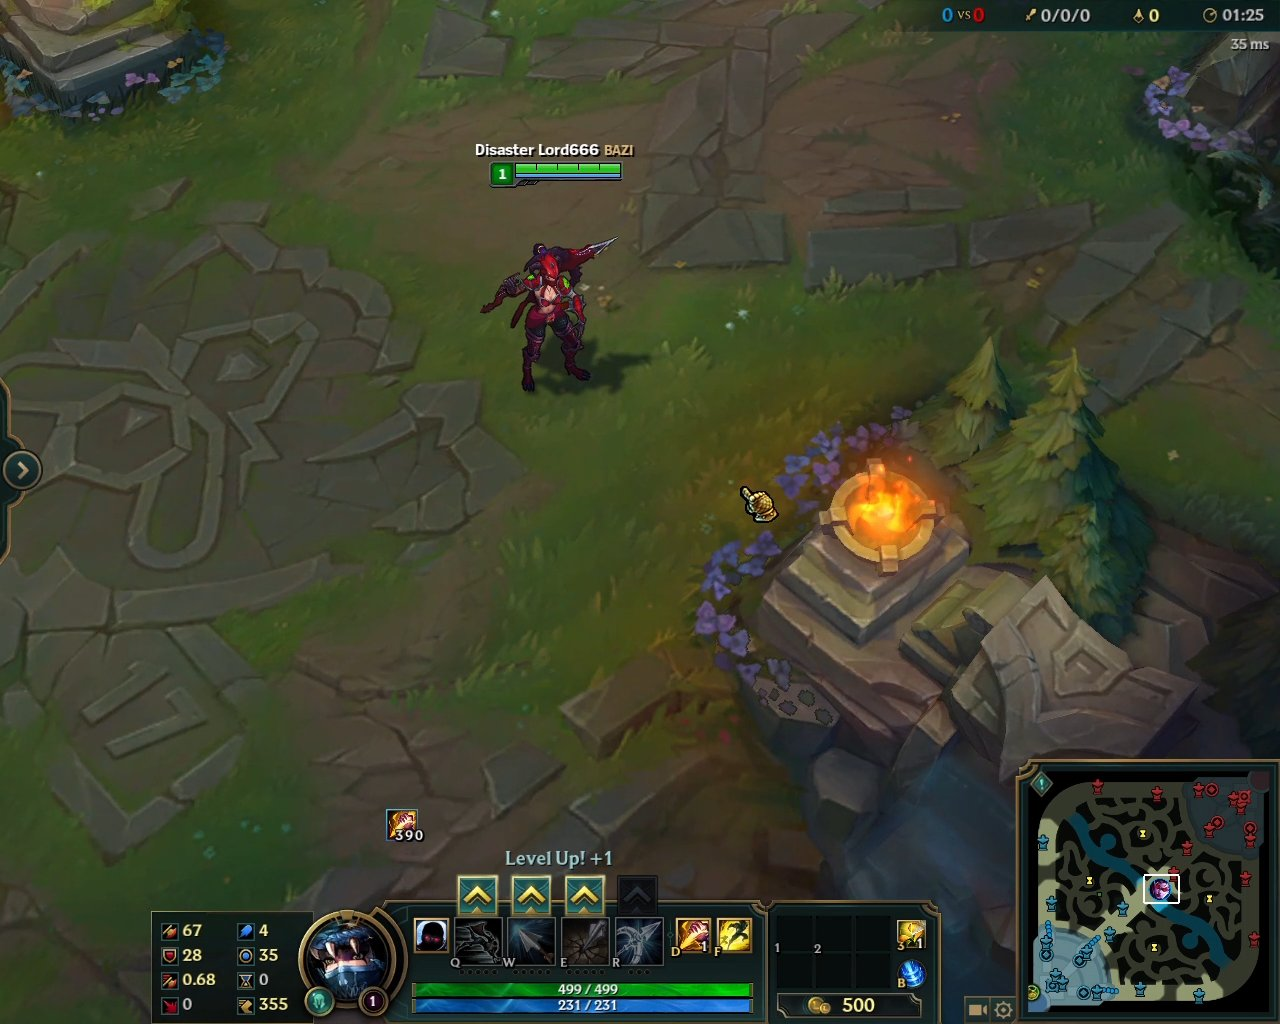Vayne: (475, 230, 626, 402)
